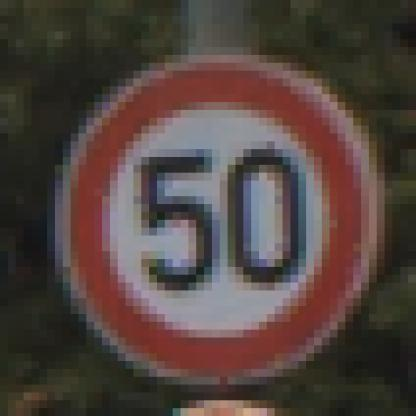Speed Limit 50: (60, 58, 373, 380)
